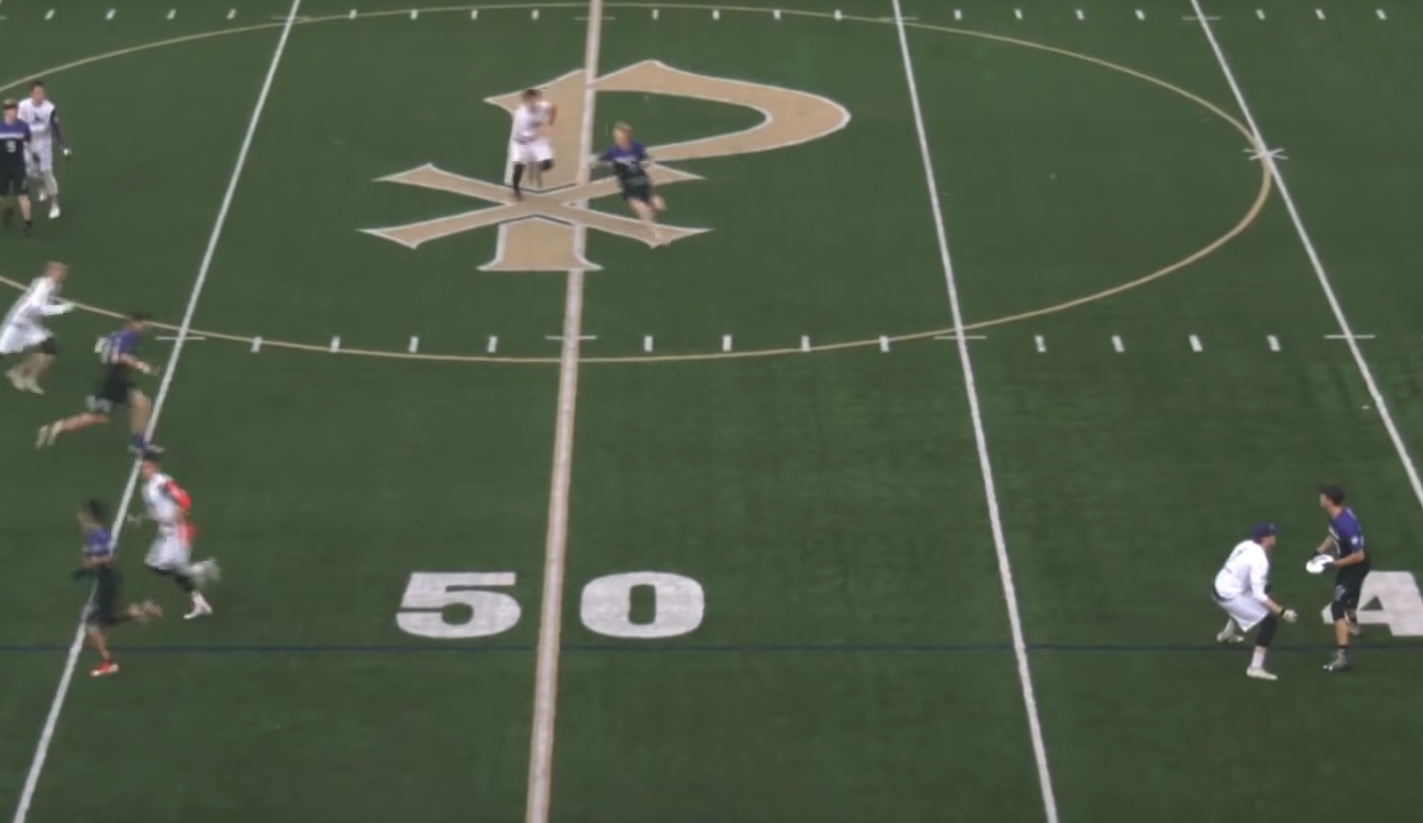frisbee: (1305, 553, 1334, 575)
